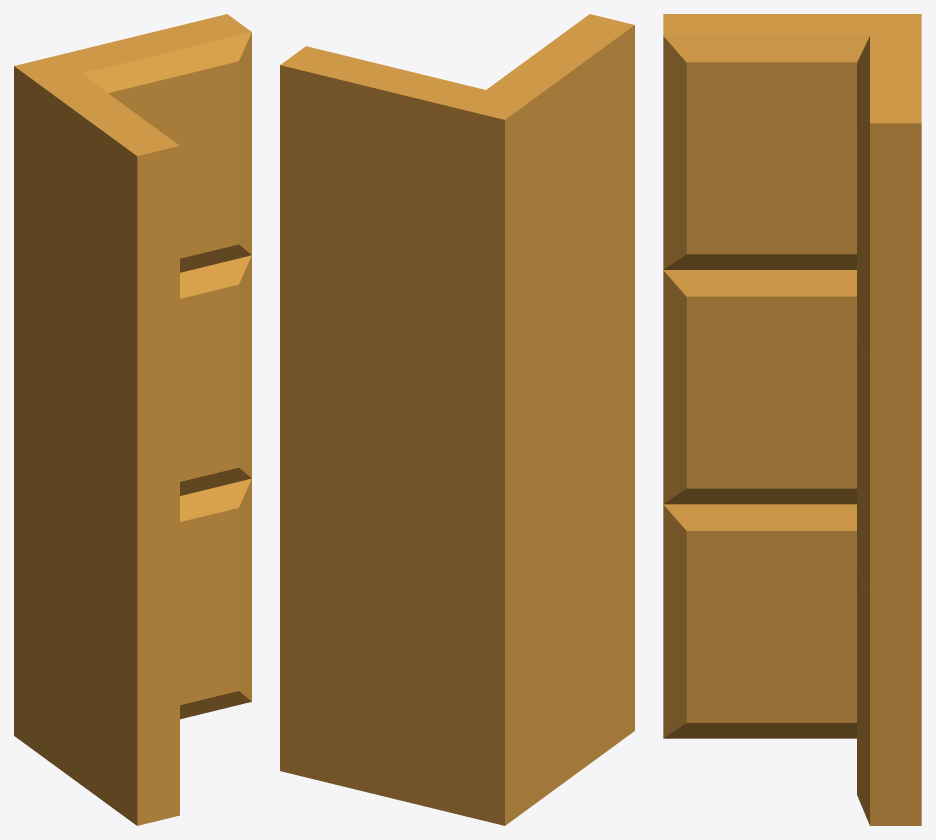
Rendered from scifi-scifi-wall-corner.glb.
3 views of the same model, side by side, from view 1: azimuth 30°, elevation 25°; view 2: azimuth 150°, elevation 25°; view 3: azimuth 270°, elevation 25° (orthographic). The views are drawn at different scales.
Parts seen in each view (by area): view 1: scifi-wall-corner; view 2: scifi-wall-corner; view 3: scifi-wall-corner.
Boxes of the visible parts, x1,y1,x2,y2 form: scifi-wall-corner: [14, 14, 251, 825]; scifi-wall-corner: [280, 14, 634, 825]; scifi-wall-corner: [663, 14, 921, 825].
Bounding box in the file's own units: 1 × 3 × 1.
